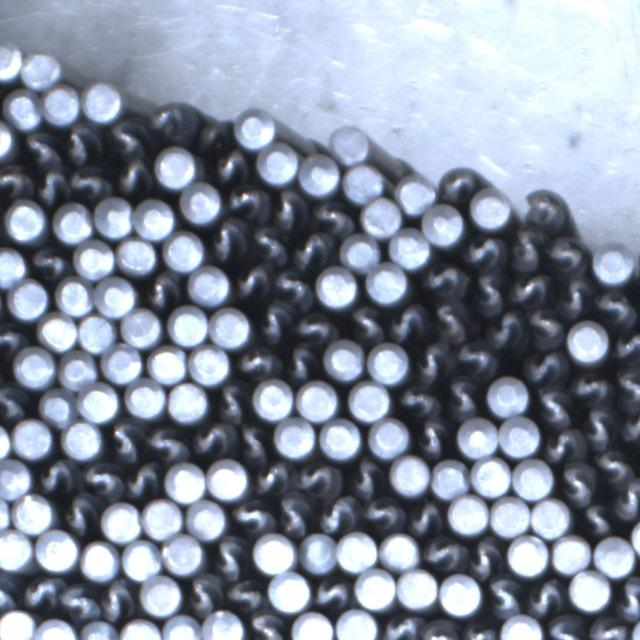tool: (296, 379, 340, 422), (35, 530, 79, 572), (232, 106, 276, 148), (592, 242, 636, 284), (163, 460, 206, 502), (439, 572, 482, 614), (13, 344, 56, 386), (507, 534, 549, 576), (267, 570, 309, 612), (252, 376, 294, 418), (298, 153, 340, 195), (93, 274, 135, 316), (500, 414, 542, 456), (132, 196, 174, 238), (155, 146, 197, 188), (592, 535, 634, 577), (423, 202, 465, 244), (317, 264, 359, 306), (52, 200, 94, 242), (568, 320, 610, 362), (346, 378, 389, 419), (257, 143, 300, 184), (206, 458, 247, 501), (321, 419, 364, 460), (570, 570, 612, 611), (355, 568, 397, 609), (513, 458, 554, 500), (141, 574, 183, 615), (325, 338, 366, 380), (181, 182, 223, 223), (253, 532, 296, 572), (165, 304, 208, 344), (5, 199, 48, 239), (141, 498, 182, 539), (336, 530, 378, 570), (456, 416, 498, 456), (12, 493, 54, 533), (78, 382, 120, 422), (82, 82, 124, 122), (12, 419, 54, 459), (188, 342, 230, 382), (446, 495, 488, 535), (366, 262, 408, 302), (274, 416, 316, 456), (189, 266, 231, 306), (390, 455, 432, 495), (390, 227, 432, 267), (120, 307, 162, 347), (125, 377, 167, 417), (488, 376, 530, 416), (162, 230, 204, 270), (398, 569, 440, 609), (395, 174, 437, 214), (471, 189, 513, 229), (342, 164, 386, 202), (489, 497, 530, 537), (121, 538, 162, 578), (208, 306, 249, 346), (74, 240, 115, 280), (368, 341, 408, 382), (330, 123, 371, 163), (368, 416, 409, 456), (93, 195, 132, 237), (100, 501, 140, 541), (168, 382, 208, 422), (162, 534, 202, 574), (188, 500, 228, 540), (530, 498, 570, 538), (550, 534, 590, 574), (472, 457, 512, 497), (101, 342, 141, 382), (360, 197, 400, 237), (7, 278, 47, 318), (54, 275, 94, 315), (430, 459, 470, 499), (2, 88, 42, 128), (57, 350, 97, 390), (300, 532, 338, 574), (148, 343, 188, 382), (81, 540, 120, 580), (61, 422, 102, 460), (341, 232, 382, 270), (43, 84, 81, 124), (380, 530, 420, 568), (117, 236, 157, 274), (22, 51, 62, 88), (79, 313, 117, 351), (40, 314, 78, 351), (41, 389, 78, 427), (335, 608, 377, 640), (202, 609, 244, 640), (0, 528, 32, 568), (0, 457, 32, 497), (293, 610, 335, 640), (501, 613, 544, 640), (1, 608, 36, 640), (0, 247, 26, 287), (162, 614, 202, 640), (119, 618, 163, 640), (36, 618, 78, 640), (0, 43, 23, 81), (80, 620, 118, 640), (0, 120, 14, 158), (0, 493, 10, 535), (1, 421, 10, 461), (632, 518, 640, 556)
tool_b: (148, 98, 198, 142), (517, 187, 567, 230), (594, 286, 640, 326), (291, 460, 339, 498), (430, 299, 470, 343), (290, 230, 334, 270), (410, 338, 450, 382), (482, 574, 523, 616), (316, 491, 358, 532), (254, 301, 294, 344), (555, 462, 595, 505), (62, 122, 102, 164), (532, 384, 572, 426), (58, 494, 98, 536), (484, 307, 524, 349), (453, 336, 495, 376), (105, 420, 144, 463), (208, 218, 246, 262), (144, 424, 188, 462), (420, 535, 464, 573), (545, 234, 586, 274), (107, 117, 149, 156), (360, 495, 405, 531), (419, 261, 464, 297), (232, 260, 272, 300), (247, 224, 287, 264), (272, 266, 312, 306), (58, 580, 98, 620), (184, 572, 222, 614), (212, 535, 250, 577), (18, 128, 60, 166), (80, 460, 122, 498), (470, 270, 506, 314), (67, 162, 111, 198), (311, 198, 355, 234), (388, 301, 428, 340), (442, 376, 481, 416), (526, 576, 565, 616), (98, 578, 135, 620), (228, 498, 271, 534), (212, 384, 250, 424), (268, 190, 306, 230), (526, 306, 564, 346), (20, 573, 60, 611), (224, 183, 266, 219), (510, 228, 546, 270), (438, 164, 480, 200), (555, 274, 591, 316), (113, 156, 151, 195), (250, 460, 290, 497), (276, 492, 312, 533), (292, 308, 335, 342), (582, 405, 616, 448), (346, 460, 384, 498), (122, 461, 160, 499), (468, 537, 504, 577), (544, 427, 584, 463), (192, 422, 232, 458), (311, 576, 351, 612), (209, 148, 249, 184), (224, 578, 266, 612), (396, 384, 438, 418), (233, 424, 270, 462), (347, 303, 384, 341), (37, 458, 76, 494), (509, 270, 550, 304), (235, 344, 277, 377), (143, 270, 180, 307), (594, 448, 632, 484), (29, 246, 69, 280), (569, 370, 609, 404), (462, 234, 502, 268), (413, 419, 449, 456), (523, 348, 562, 382), (408, 500, 443, 536), (284, 343, 318, 380), (245, 610, 286, 640), (379, 610, 420, 640), (35, 165, 68, 201), (612, 365, 640, 407), (614, 576, 640, 620), (586, 615, 630, 640), (614, 478, 640, 520), (580, 503, 613, 535), (0, 161, 29, 197), (544, 615, 584, 640), (418, 618, 462, 640), (611, 329, 640, 362), (1, 386, 27, 422), (0, 320, 24, 357), (460, 620, 500, 640), (619, 408, 640, 446), (0, 572, 16, 614)
